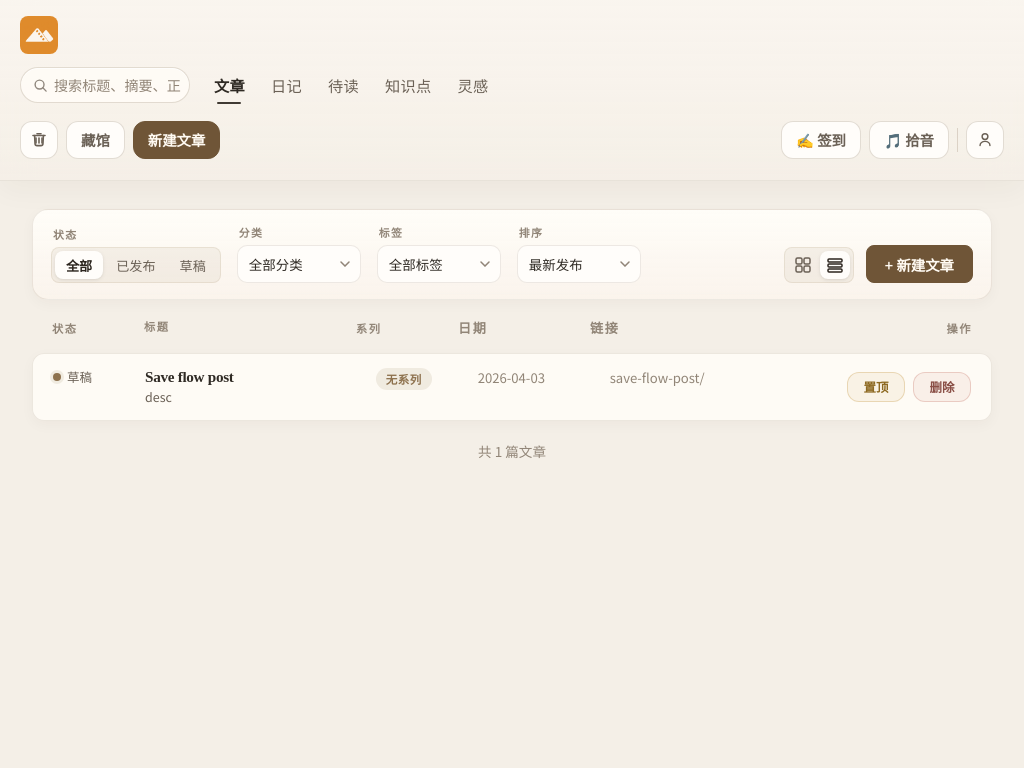
Test case: App save flow › clears the save success message after the next edit following a successful save
This screenshot has width=1024, height=768.
Check: the text "Save flow post" is shown, box [145,368,234,386]
Click the button "草稿 Save flow post desc 无系列 2026-04-03 save-flow-post/" at (189,376), box [53,368,831,406]
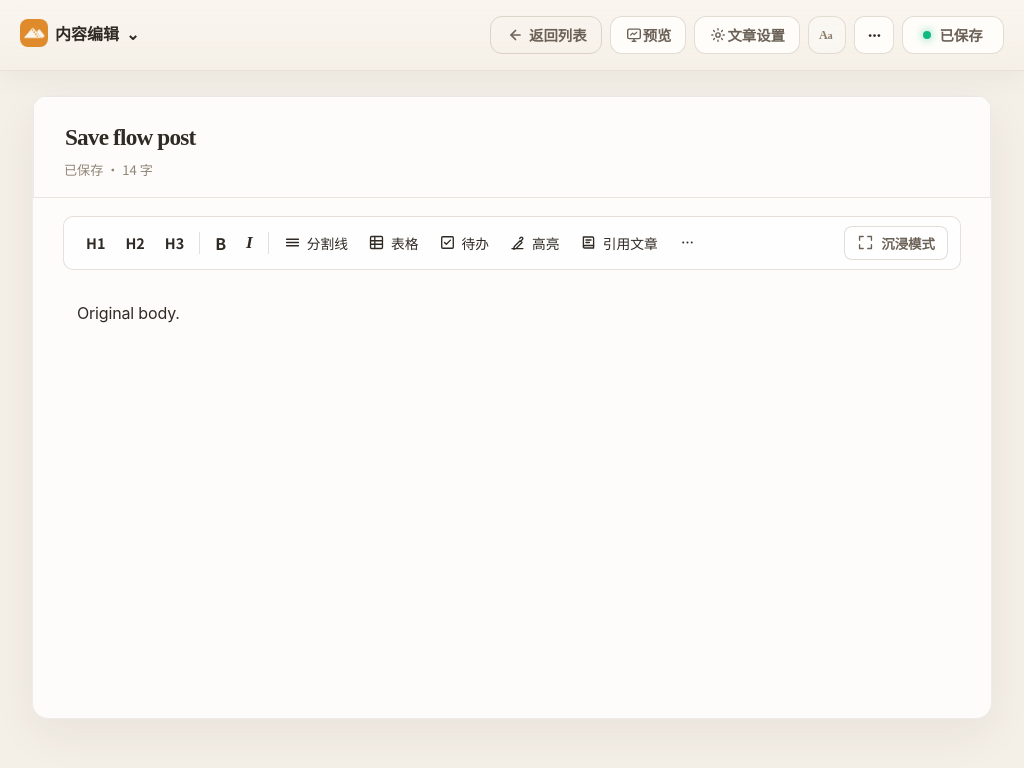
Check: the text box named "Markdown 编辑器" is shown, box [63,270,961,688]
Replace the text in the field named "标题" with "Updated title" at (512,138), box [64,123,960,153]
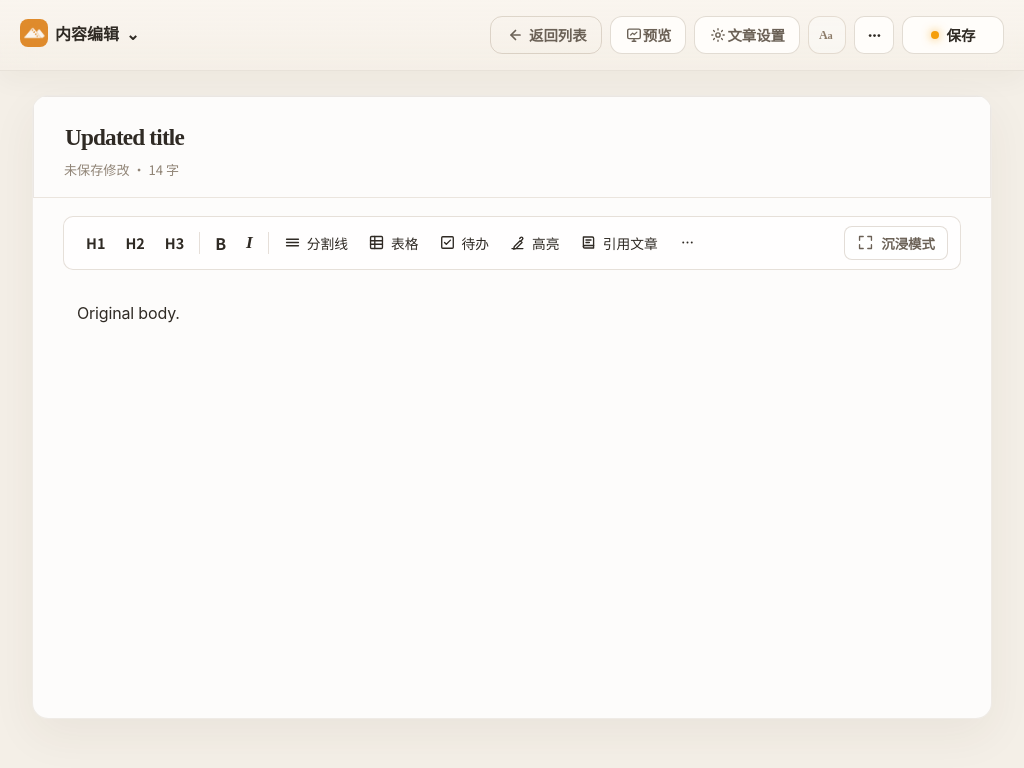
Click the button "保存" at (953,35), box [902,16,1004,54]
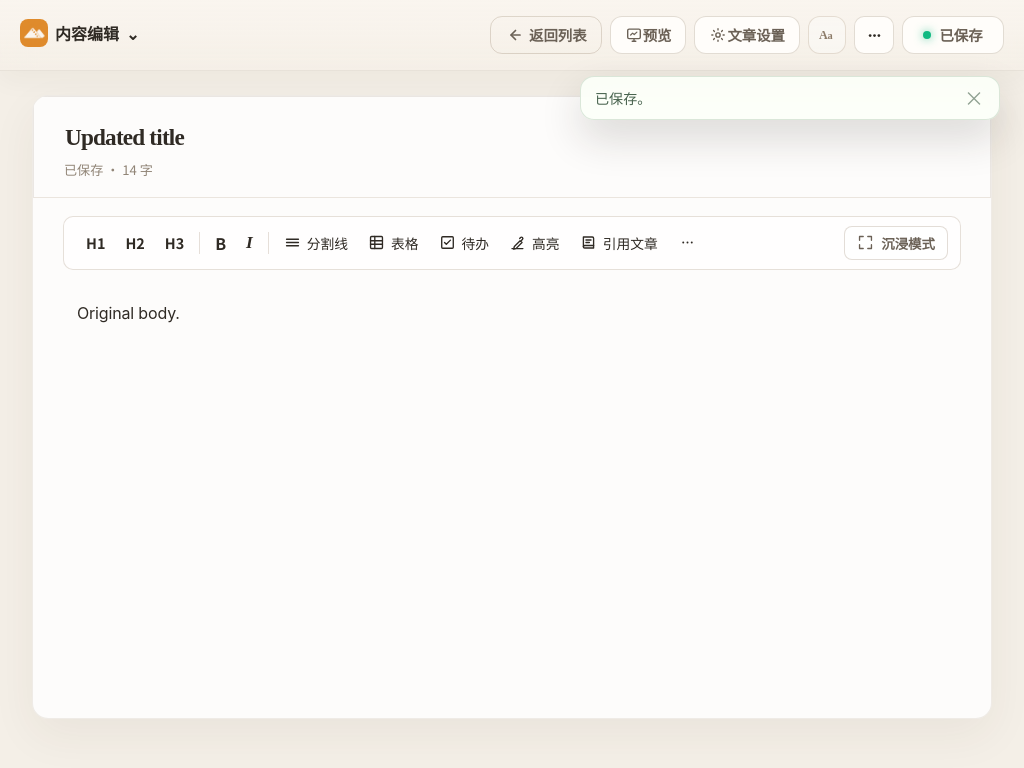
Check: the button "已保存" is disabled, box [902,16,1004,54]
Check: the text "已保存。" is shown, box [595,88,651,108]
Replace the text in the field named "标题" with "Edited again after save" at (512,138), box [64,123,960,153]
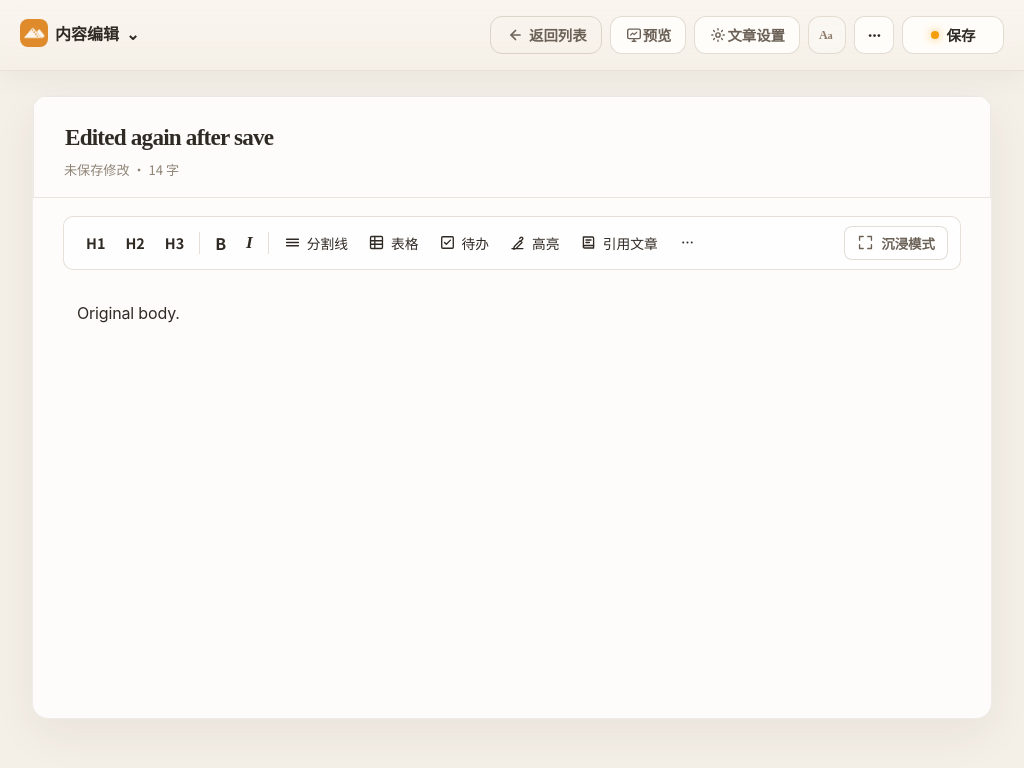
Check: the text "已保存。" is gone
Check: the button "保存" is enabled, box [902,16,1004,54]
